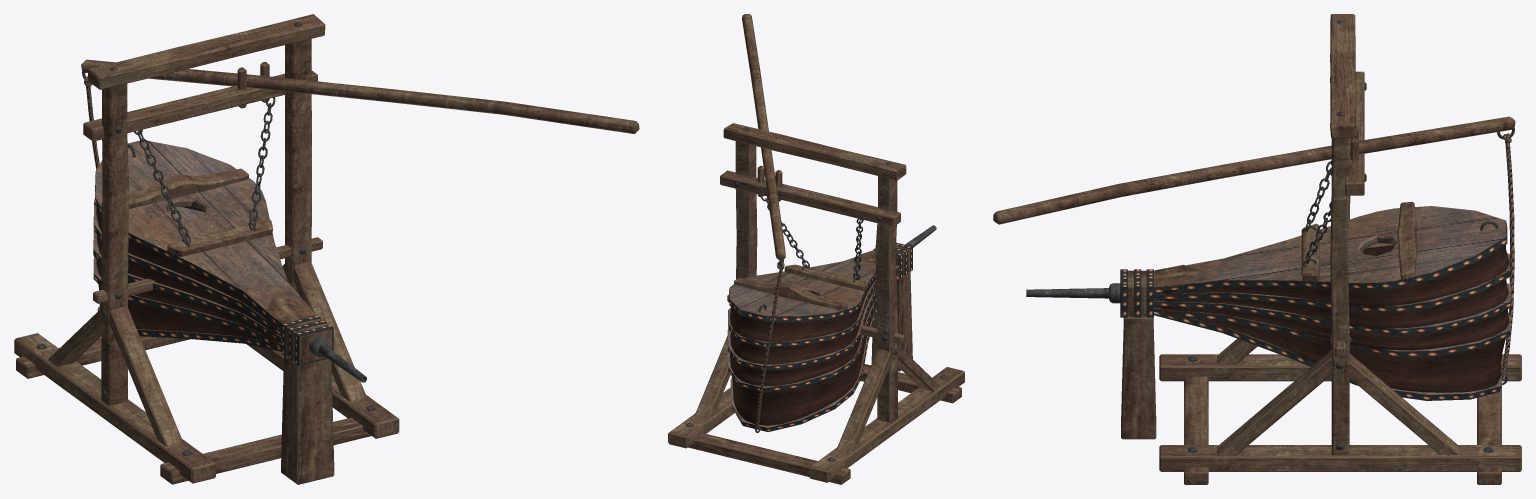
File: BlaaseBelgStor.fbx
3 renders of one model, left to right at view 1: azimuth 30°, elevation 25°; view 2: azimuth 150°, elevation 25°; view 3: azimuth 270°, elevation 25°, orthographic. The views are drawn at different scales.
Parts seen in each view (by area): view 1: BlaaseBelg; view 2: BlaaseBelg; view 3: BlaaseBelg.
Boxes of the visible parts, box(x1,y1,x2,y2) form: BlaaseBelg: box(14, 14, 639, 484); BlaaseBelg: box(668, 14, 964, 484); BlaaseBelg: box(993, 14, 1521, 484).
Bounding box in the file's own units: 183 × 166 × 219.
Materials: 1 (1 with a texture image).
